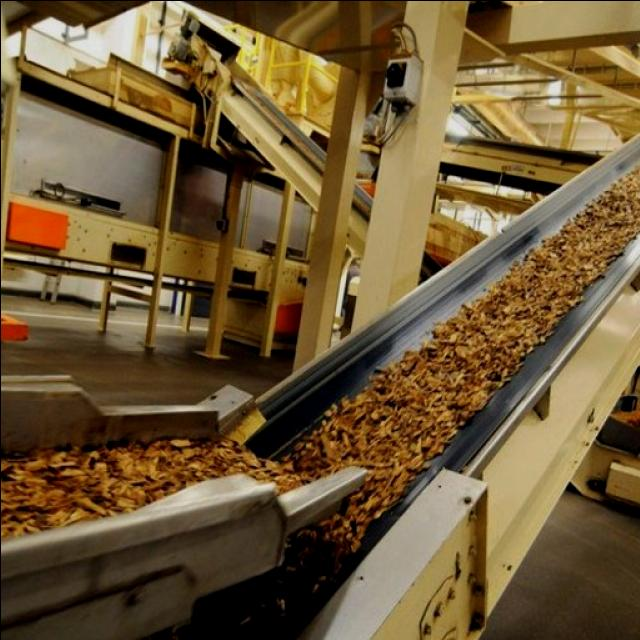conveyor: (0, 132, 640, 640)
